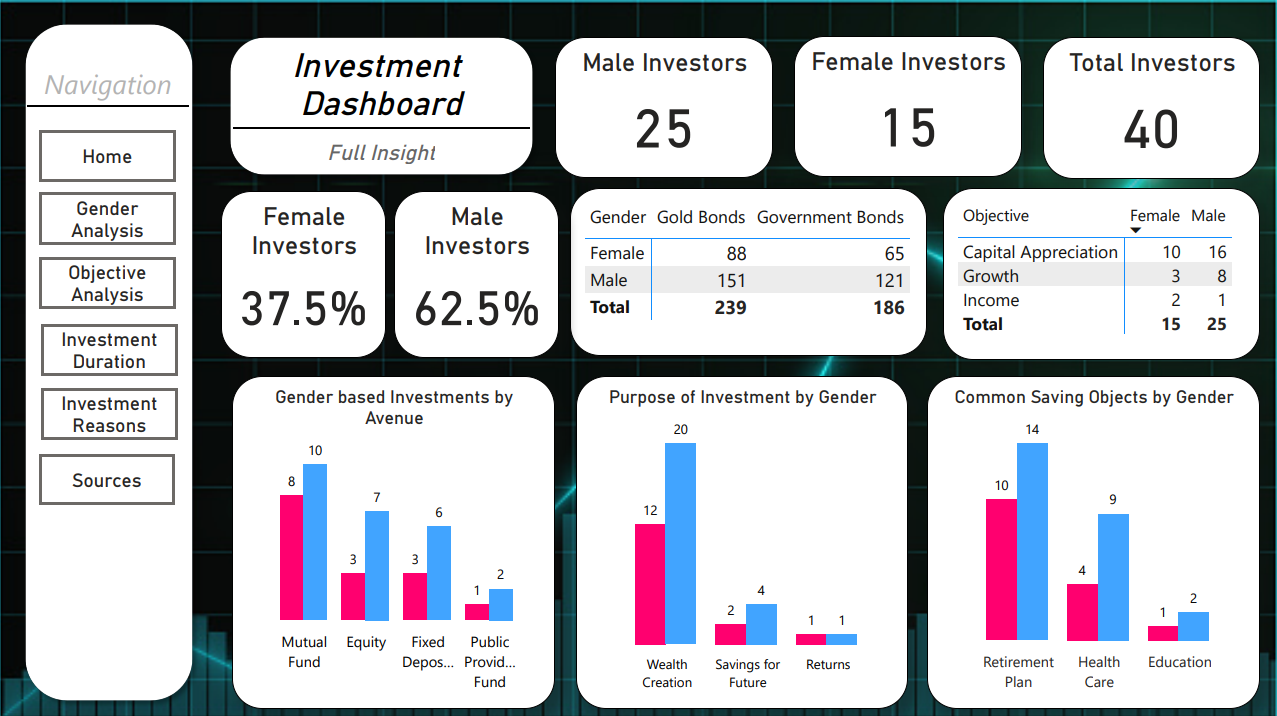

What the dashboard file says about the page in this screenshot:
{"tool":"powerbi","page":{"name":"Gender Analysis","canvas":[1280,720],"ordinal":1},"visuals":[{"type":"shape","box":[19.2,16.5,183.9,693],"z":0},{"type":"textbox","box":[28.8,60.4,161.9,46.7],"z":1000},{"type":"shape","box":[28.8,83.7,161.9,43.9],"z":2000},{"type":"shape","box":[223.7,28.8,319.7,153.7],"z":3000},{"type":"textbox","box":[246.6,41.3,272.2,85.5],"z":4000},{"type":"shape","box":[234.6,105.7,297.8,43.9],"z":5000},{"type":"card","title":"Total Investors","fields":{"Values":["Measure.Total investors"]},"box":[1044.8,37.4,217.2,141.2],"z":6000},{"type":"card","title":"Male Investors","fields":{"Values":["Measure.Male"]},"box":[557,37,218.4,141],"z":7000},{"type":"card","title":"Female Investors","fields":{"Values":["Measure.Female"]},"box":[796.3,36.2,228,141.2],"z":8000},{"type":"clusteredColumnChart","title":"Common Saving Objects by Gender","fields":{"Category":["Data_set 2.What are your savings objectives?"],"Y":["Measure.Female","Measure.Male"]},"box":[929,376.4,333,333],"z":9000},{"type":"clusteredColumnChart","title":"Gender based Investments by Avenue","fields":{"Category":["Data_set 2.Avenue"],"Y":["Measure.Female","Measure.Male"]},"box":[234,376.4,323.3,333],"z":10000},{"type":"actionButton","title":"Home","box":[41.3,129.7,136.8,52.7],"z":11000},{"type":"actionButton","title":"Home","box":[41.3,192.4,136.8,52.7],"z":12000},{"type":"actionButton","title":"Home","box":[41.3,256.6,136.8,52.7],"z":13000},{"type":"actionButton","title":"Home","box":[42.8,323.6,136.8,52.7],"z":14000},{"type":"actionButton","title":"Home","box":[42.8,387.7,136.8,52.7],"z":15000},{"type":"clusteredColumnChart","title":"Purpose of Investment by Gender","fields":{"Category":["Data_set 2.Purpose"],"Y":["Measure.Female","Measure.Male"]},"box":[577.9,376.4,331.8,333],"z":16000},{"type":"pivotTable","fields":{"Rows":["Data_set 2.gender"],"Values":["Sum(Data_set 2.Gold)","Sum(Data_set 2.Government_Bonds)"]},"box":[571.9,188.2,357.1,167.7],"z":17000},{"type":"pivotTable","fields":{"Rows":["Data_set 2.Objective"],"Values":["Measure.Female","Measure.Male"]},"box":[944.6,188.2,317.3,171.3],"z":18000},{"type":"actionButton","title":"Home","box":[41,453.6,136.3,51.9],"z":19000},{"type":"card","title":"Female Investors","fields":{"Values":["Measure.%female"]},"box":[223.2,190.6,165.3,167.7],"z":20000},{"type":"card","title":"Male Investors","fields":{"Values":["Measure.%male"]},"box":[395.7,190.6,165.3,167.7],"z":21000}]}

Visuals, with their boxes in screenshot pixels (x1, y1, x2, y2), scaled from the page's 1280x720 canvas onto the 1277x716 screenshot:
shape: bbox=(19, 16, 203, 706)
textbox: bbox=(29, 60, 190, 107)
shape: bbox=(29, 83, 190, 127)
shape: bbox=(223, 29, 542, 181)
textbox: bbox=(246, 41, 518, 126)
shape: bbox=(234, 105, 531, 149)
"Total Investors" card: bbox=(1042, 37, 1259, 178)
"Male Investors" card: bbox=(556, 37, 774, 177)
"Female Investors" card: bbox=(794, 36, 1022, 176)
"Common Saving Objects by Gender" clusteredColumnChart: bbox=(927, 374, 1259, 705)
"Gender based Investments by Avenue" clusteredColumnChart: bbox=(233, 374, 556, 705)
"Home" actionButton: bbox=(41, 129, 178, 181)
"Home" actionButton: bbox=(41, 191, 178, 244)
"Home" actionButton: bbox=(41, 255, 178, 308)
"Home" actionButton: bbox=(43, 322, 179, 374)
"Home" actionButton: bbox=(43, 386, 179, 438)
"Purpose of Investment by Gender" clusteredColumnChart: bbox=(577, 374, 908, 705)
pivotTable - Data_set 2.gender x Sum(Data_set 2.Gold): bbox=(571, 187, 927, 354)
pivotTable - Data_set 2.Objective x Measure.Female: bbox=(942, 187, 1259, 358)
"Home" actionButton: bbox=(41, 451, 177, 503)
"Female Investors" card: bbox=(223, 190, 388, 356)
"Male Investors" card: bbox=(395, 190, 560, 356)
